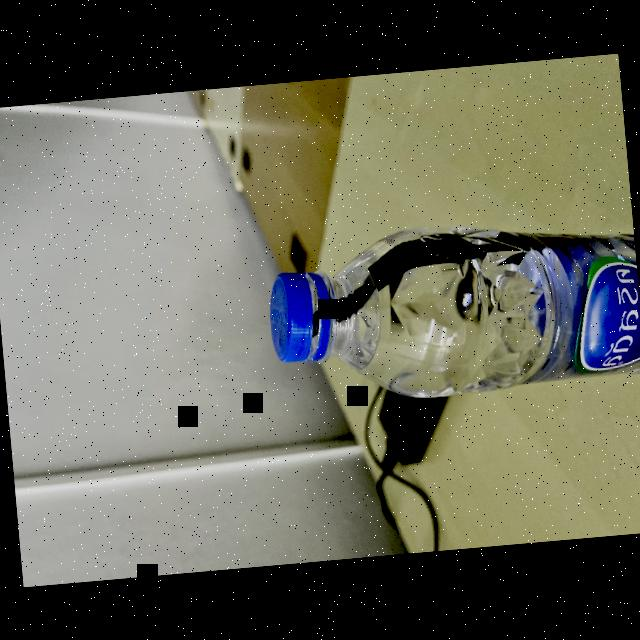plastic_bottle_cap: (253, 266, 320, 366)
